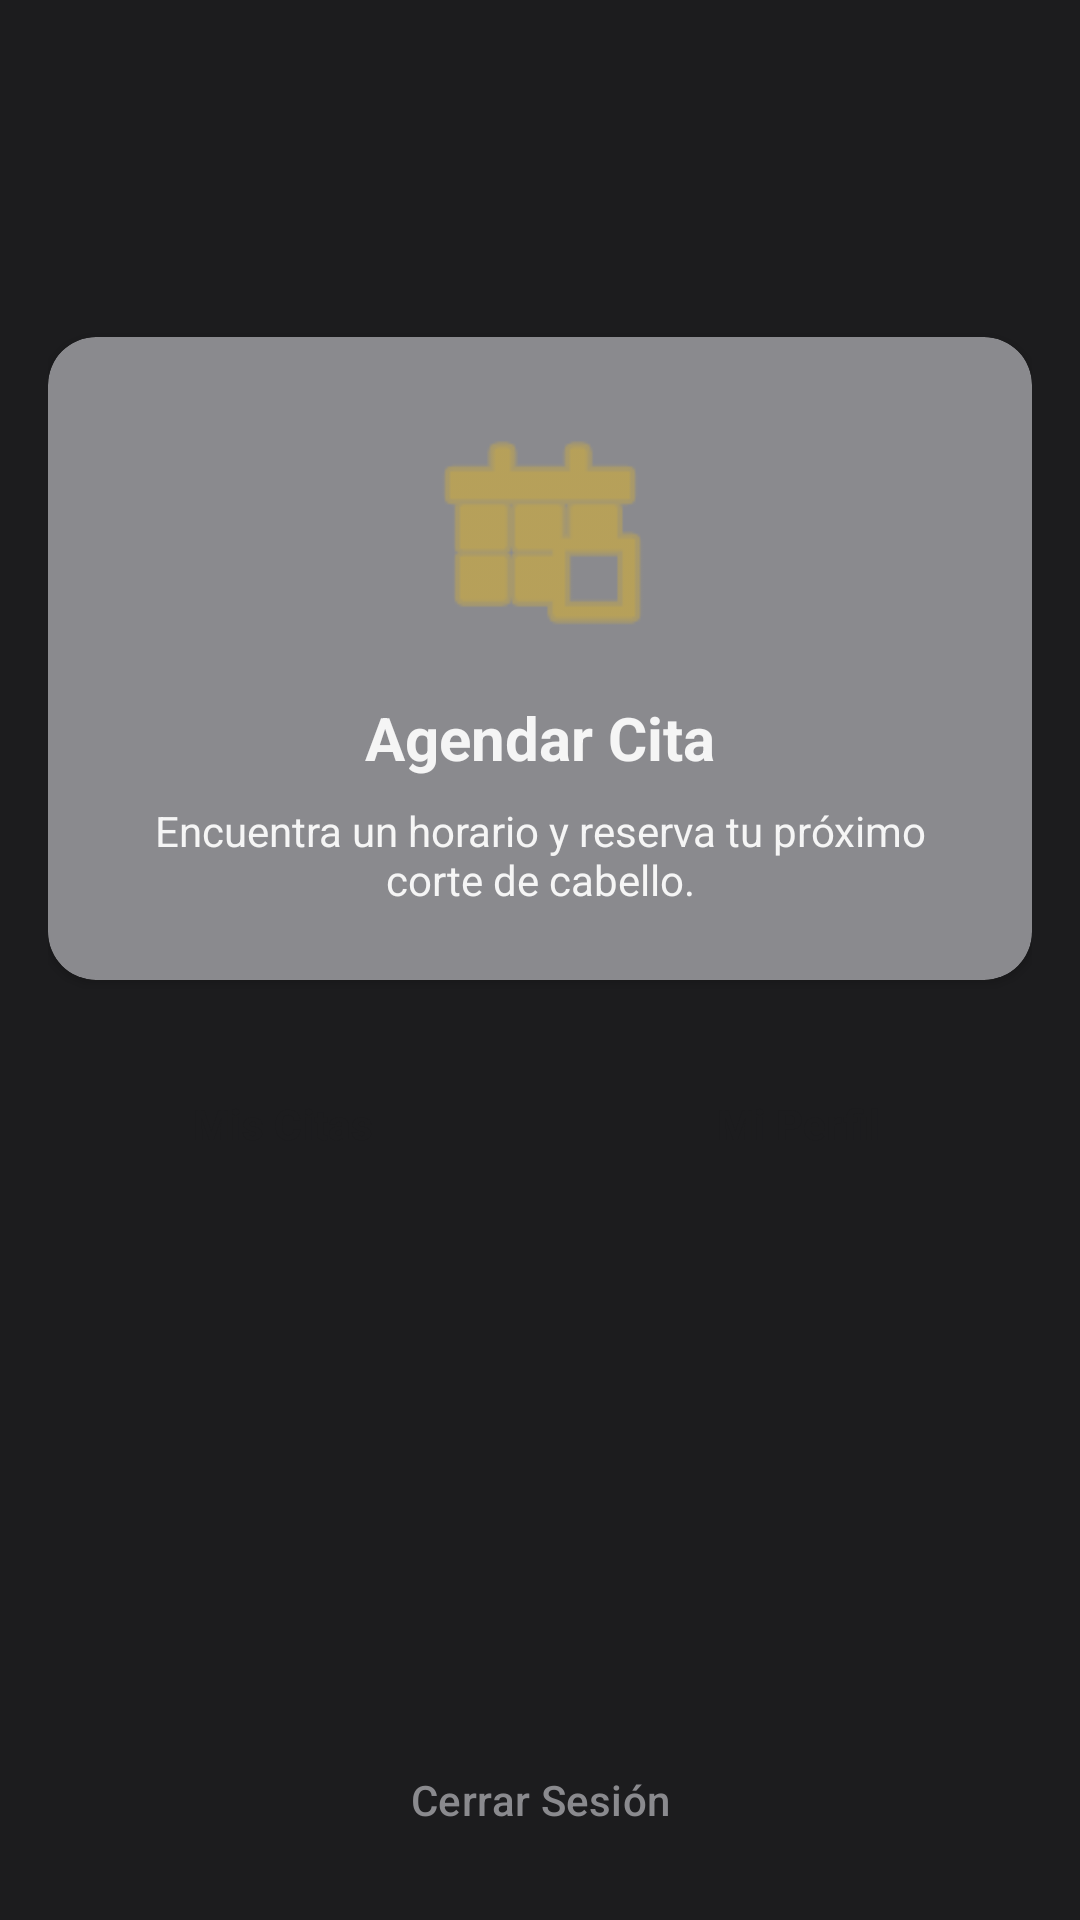

Named icons in this screenshot (1080w x 1920h) and their centers, (x,y):
today: (542,532)
